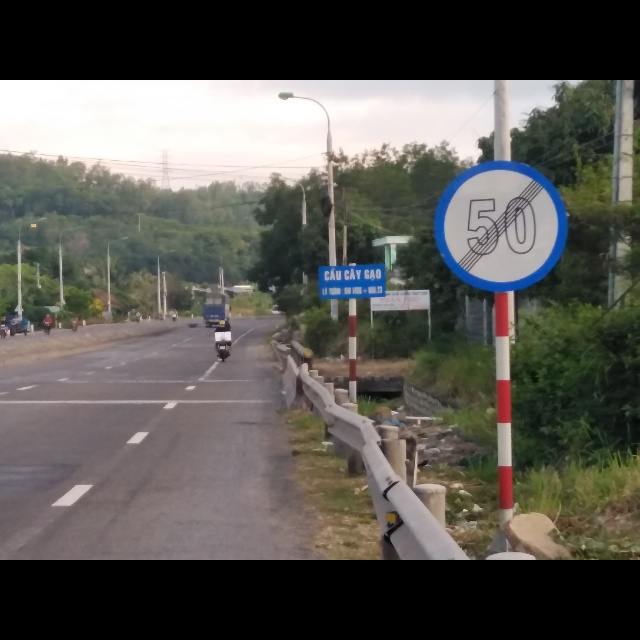Hết hạn chế tốc độ tối đa 50km/h: (432, 156, 570, 291)
